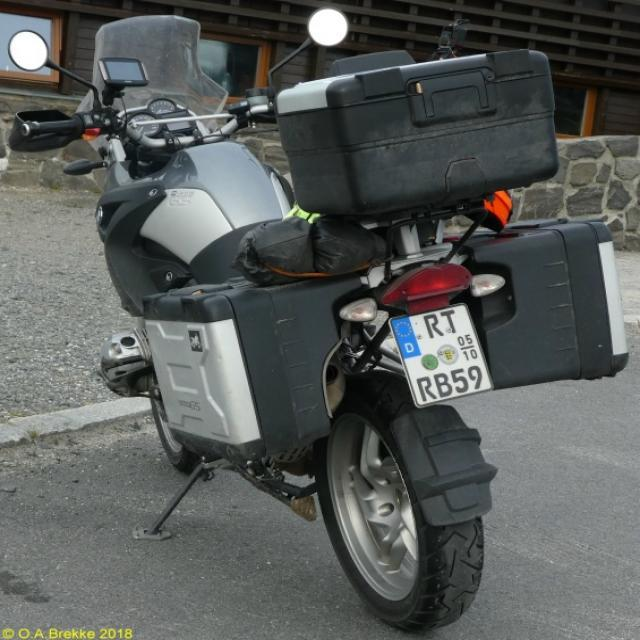license-plates: (391, 304, 494, 406)
